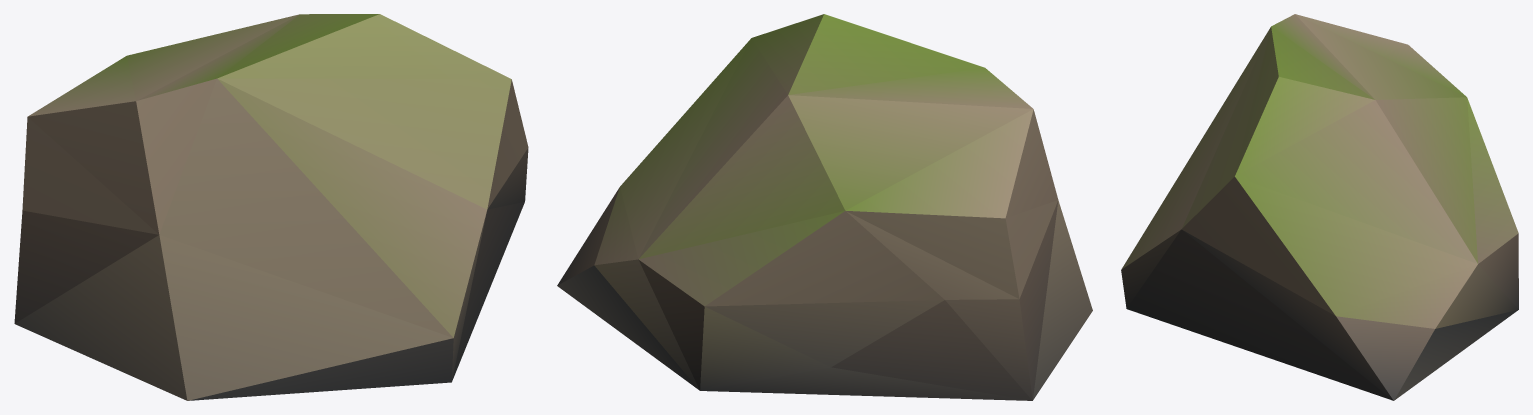
The model's file is Rock_B_LOD1.fbx.
3 renders of one model, left to right at view 1: azimuth 30°, elevation 25°; view 2: azimuth 150°, elevation 25°; view 3: azimuth 270°, elevation 25°, orthographic. The views are drawn at different scales.
Visible parts, largest first — view 1: Rock_B_LOD1; view 2: Rock_B_LOD1; view 3: Rock_B_LOD1.
Boxes of the visible parts, bbox=[...] form: Rock_B_LOD1: bbox=[14, 14, 528, 400]; Rock_B_LOD1: bbox=[557, 14, 1092, 400]; Rock_B_LOD1: bbox=[1121, 14, 1518, 400].
Size of the model in its own units: 2.61 by 1.44 by 2.16.
